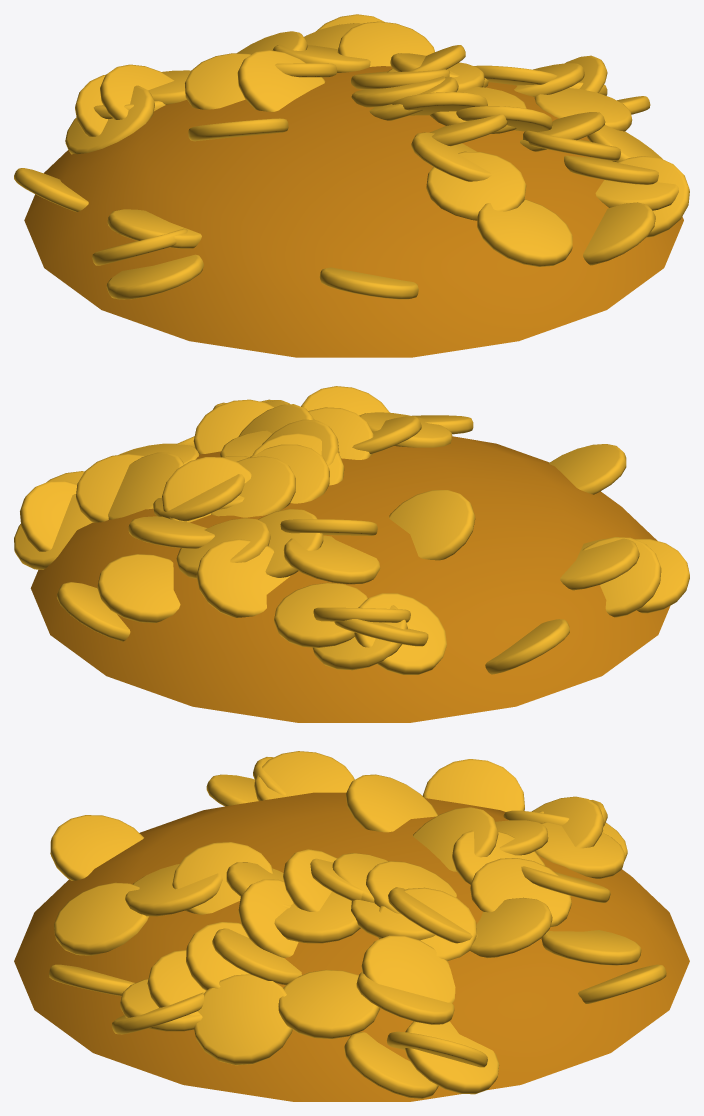
Rendered from coinpile_m.glb.
The picture shows the model from 3 angles, top to bottom: view 1: azimuth 30°, elevation 25°; view 2: azimuth 150°, elevation 25°; view 3: azimuth 270°, elevation 25°; orthographic projection. The views are drawn at different scales.
Visible parts, largest first — view 1: coinpile_m; view 2: coinpile_m; view 3: coinpile_m.
Boxes of the visible parts, x1,y1,x2,y2 form: coinpile_m: (14, 14, 689, 357); coinpile_m: (14, 386, 689, 722); coinpile_m: (14, 751, 689, 1101).
Size of the model in its own units: 1.24 by 0.2635 by 1.18.
